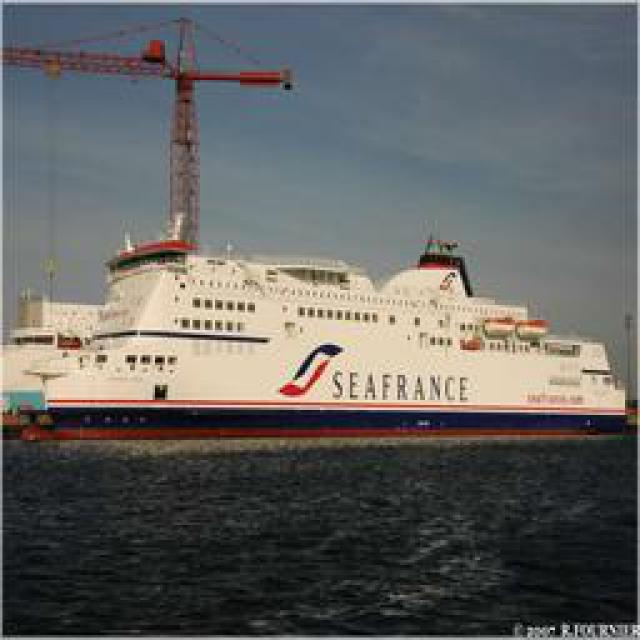Ship: (27, 210, 625, 453)
